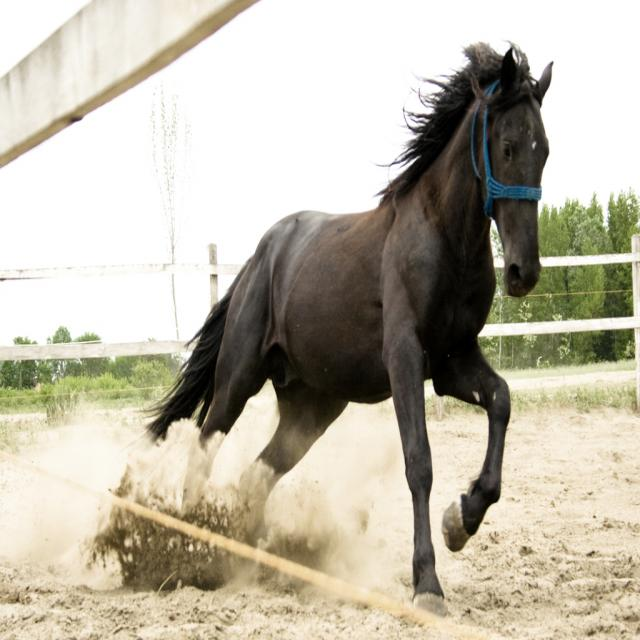Horse: (141, 42, 557, 619)
